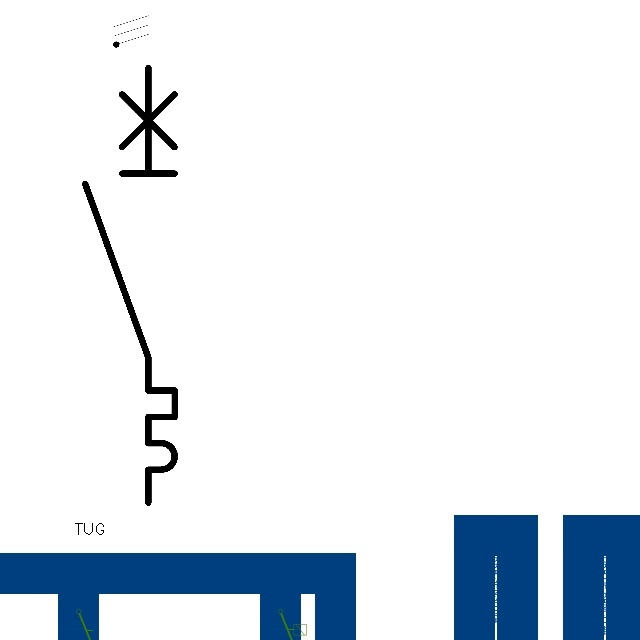interruptor_termomagnetico: (74, 56, 186, 513)
